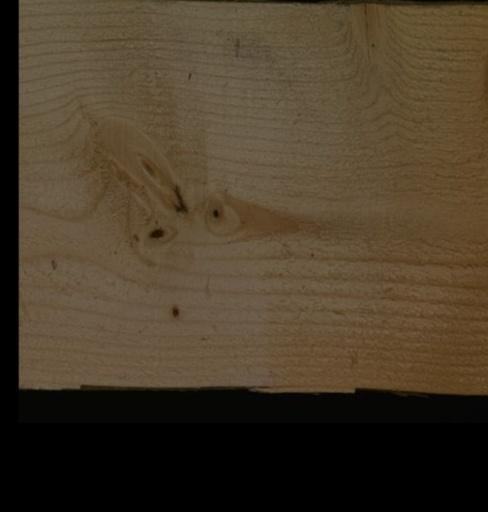small_knot: (201, 198, 227, 225), (163, 301, 184, 317)
